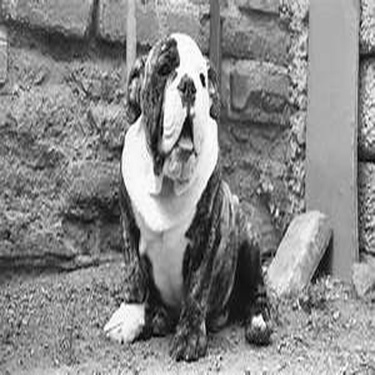dog: (93, 21, 276, 369)
